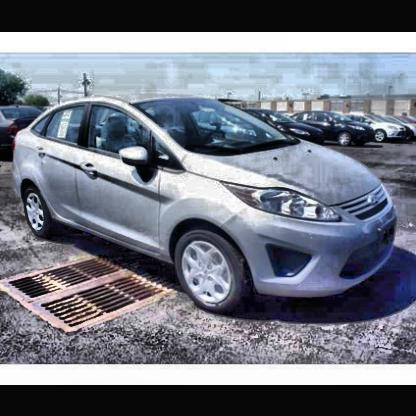Ford Fiesta Sedan 2012: (15, 90, 401, 316)
